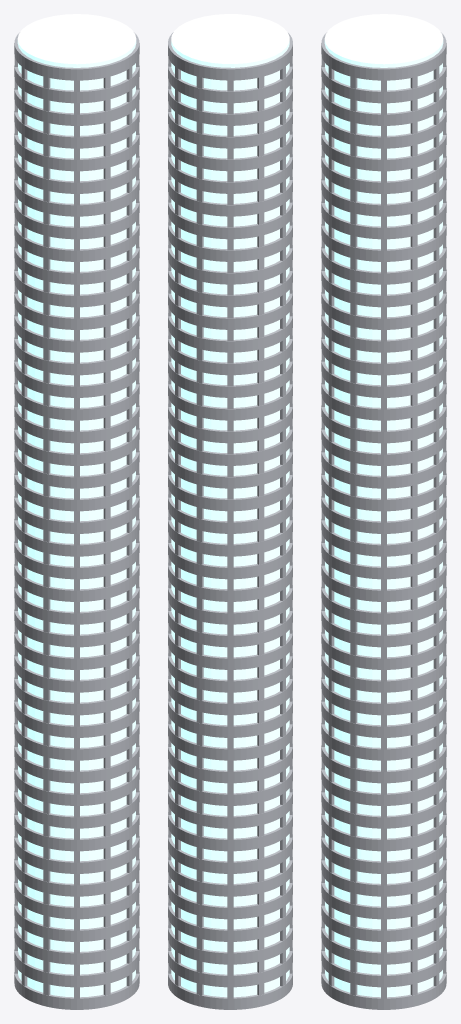
The model's file is коллона 1.fbx.
3 views of the same model, side by side, from view 1: azimuth 90°, elevation 25°; view 2: azimuth 150°, elevation 25°; view 3: azimuth 270°, elevation 25° (orthographic).
Parts seen in each view (by area): view 1: Column_Full; view 2: Column_Full; view 3: Column_Full.
Part boxes in pixels (box(x1,y1,x2,y2)): Column_Full: box(14, 14, 139, 1009); Column_Full: box(168, 14, 292, 1009); Column_Full: box(321, 14, 446, 1009).
Size of the model in its own units: 600 by 5000 by 600.
